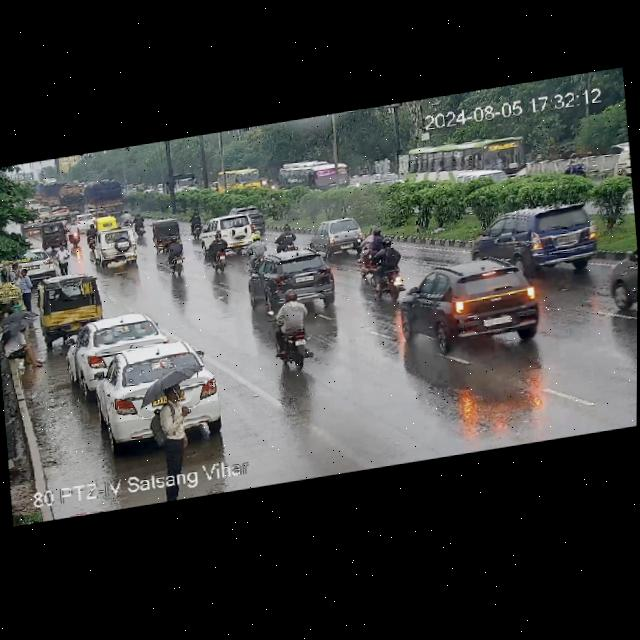bus: (400, 131, 533, 198), (281, 152, 355, 198), (215, 163, 272, 197)
car: (89, 334, 229, 452), (395, 252, 543, 361), (473, 197, 606, 282), (250, 242, 344, 313), (74, 310, 165, 379), (38, 272, 107, 336), (605, 240, 638, 316), (88, 213, 140, 261), (204, 210, 260, 250), (314, 216, 366, 256), (151, 217, 186, 252), (366, 169, 406, 188), (95, 211, 119, 233)
motorcycle: (270, 289, 312, 373), (369, 236, 401, 296), (356, 223, 384, 270), (202, 234, 236, 272), (160, 240, 192, 276), (271, 223, 306, 255), (247, 233, 276, 269), (188, 208, 204, 240), (68, 218, 81, 247), (84, 220, 96, 248), (133, 211, 145, 237), (120, 207, 133, 225)
person: (155, 382, 194, 470), (6, 333, 45, 372), (18, 265, 32, 306), (55, 243, 71, 275), (9, 260, 18, 277)
truck: (54, 174, 131, 217), (156, 168, 200, 199)
